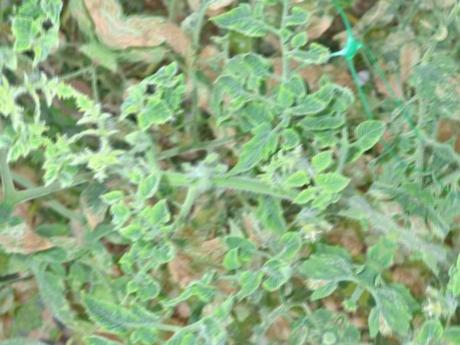Tomato leaf yellow virus: (137, 183, 188, 243), (125, 158, 169, 209), (309, 159, 355, 204), (133, 92, 182, 134), (279, 153, 321, 199)
